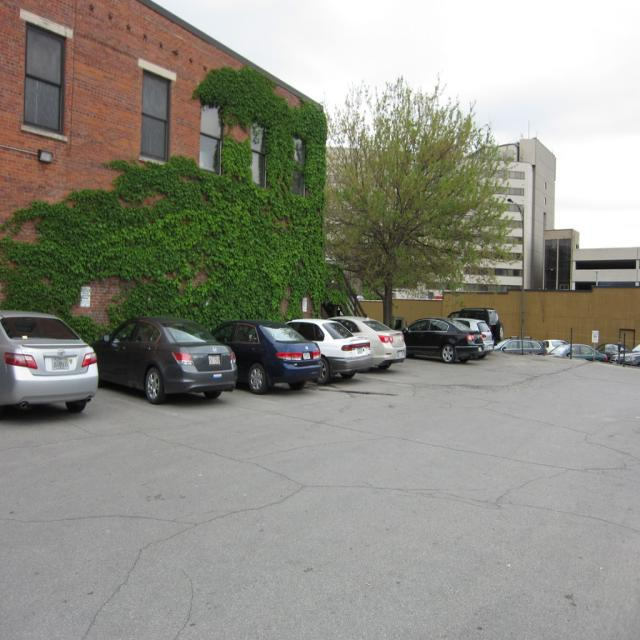car: (0, 306, 96, 423), (211, 317, 325, 393), (282, 313, 370, 382), (332, 317, 406, 369), (404, 316, 481, 364), (454, 306, 501, 338), (455, 312, 494, 350), (553, 335, 606, 362), (493, 338, 544, 351), (619, 347, 639, 369)
